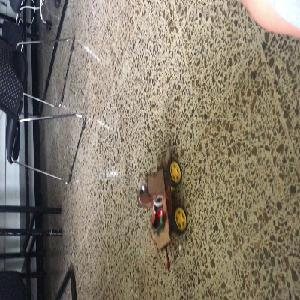Robot: (137, 146, 188, 251)
